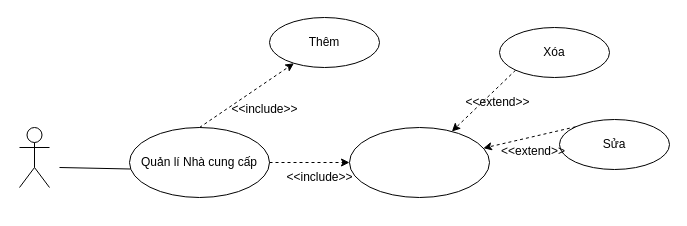
The diagram is 687 pixels wide and 226 high, and some of its shapes have lost their labels. Here are the shapes that lost their labels. From the top down, the centre of each, then its label:
At pixel 34 157: "Admin".
At pixel 419 162: "Xem Danh sách".
